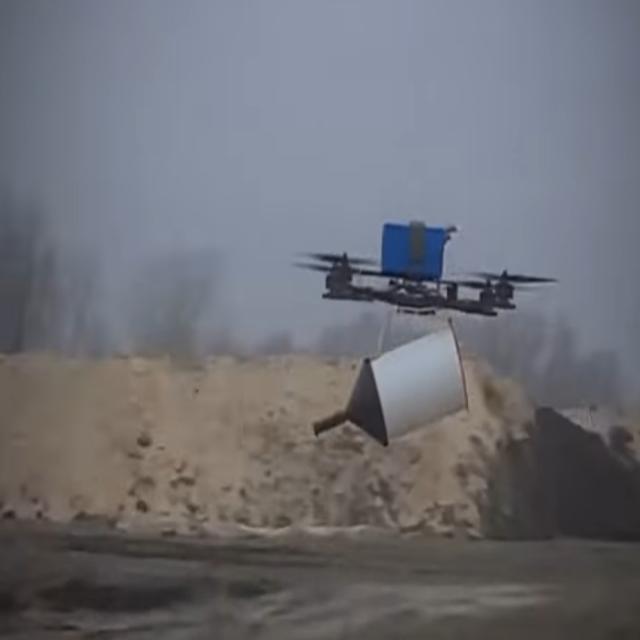drone: (289, 217, 567, 454)
